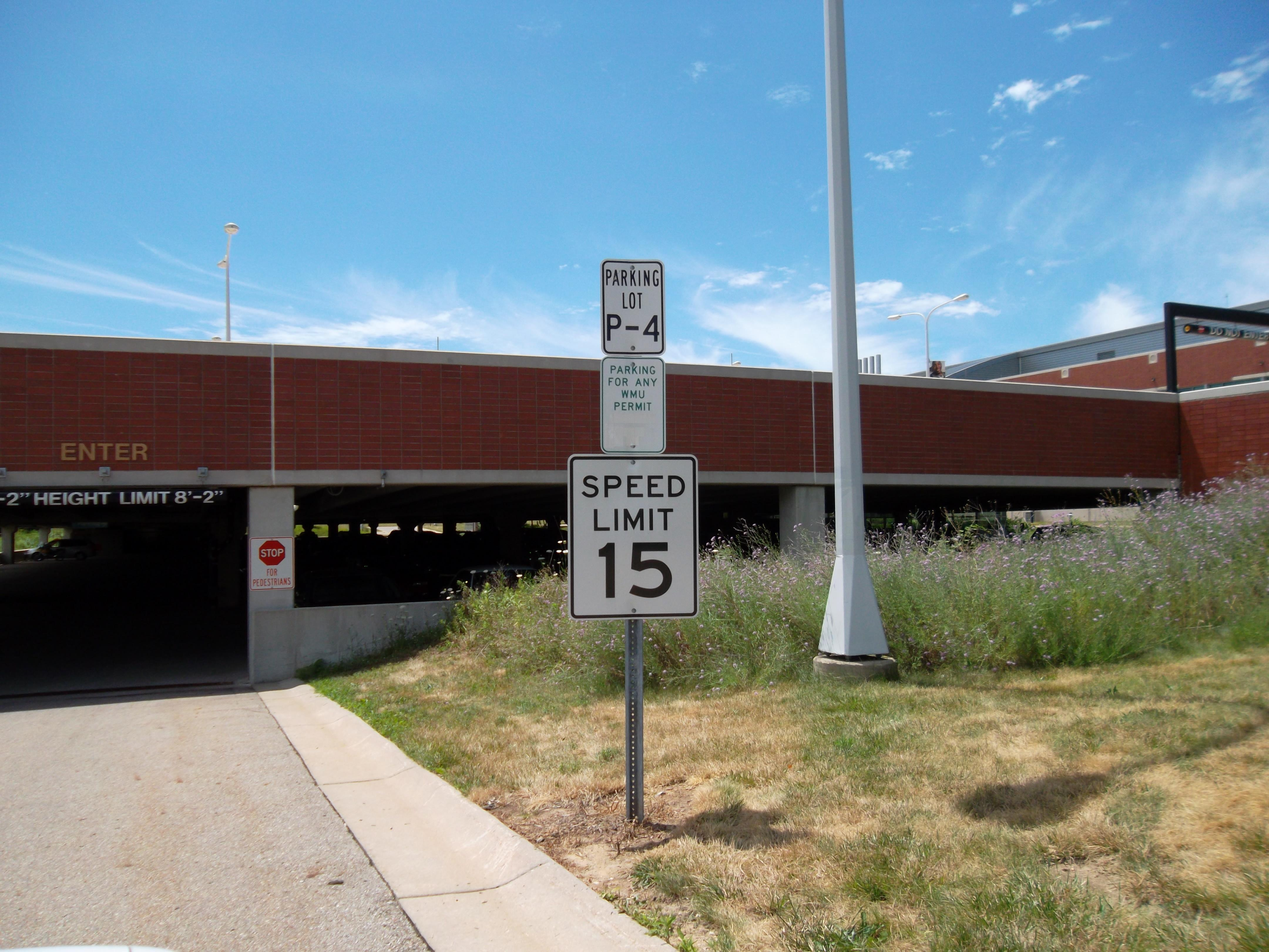Stop: (256, 540, 287, 566)
